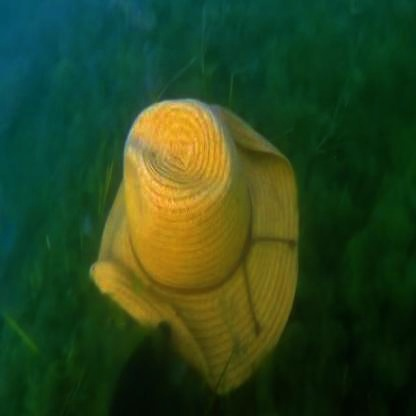misc: (69, 85, 312, 416)
